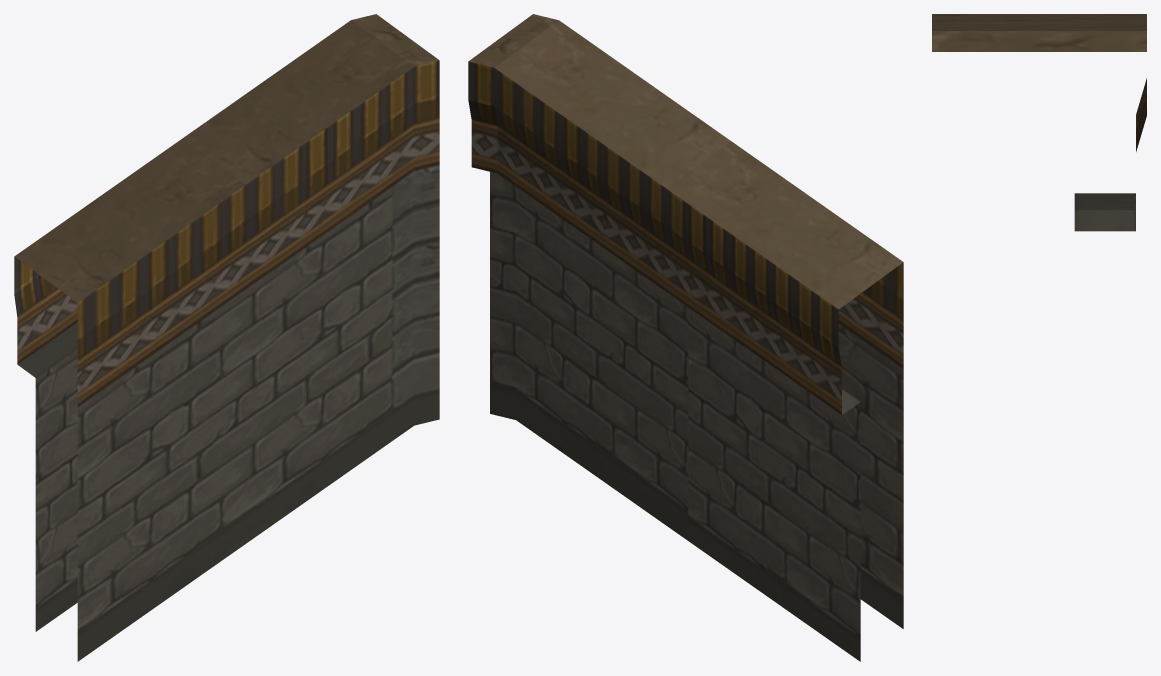
The model's file is Battle06_Wall_06.FBX.
3 renders of one model, left to right at view 1: azimuth 30°, elevation 25°; view 2: azimuth 150°, elevation 25°; view 3: azimuth 270°, elevation 25°, orthographic. The views are drawn at different scales.
Parts seen in each view (by area): view 1: Battle06_Wall_06; view 2: Battle06_Wall_06; view 3: Battle06_Wall_06.
Part boxes in pixels (x1=…): Battle06_Wall_06: x1=14, y1=14, x2=439, y2=661; Battle06_Wall_06: x1=468, y1=14, x2=903, y2=661; Battle06_Wall_06: x1=932, y1=14, x2=1146, y2=231.
Bounding box in the file's own units: 9.75 × 13.23 × 2.95.
